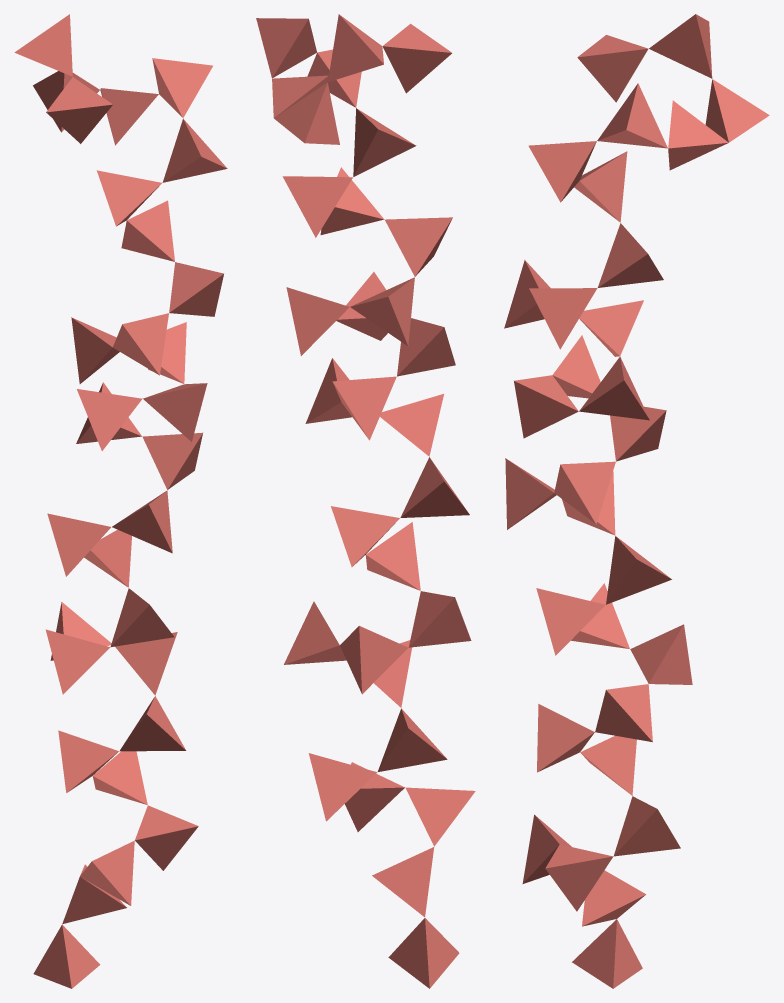
File: customMassing_GLP-1_240712.fbx
3 views of the same model, side by side, from view 1: azimuth 30°, elevation 25°; view 2: azimuth 150°, elevation 25°; view 3: azimuth 270°, elevation 25° (orthographic). The views are drawn at different scales.
Parts seen in each view (by area): view 1: GLP-1; view 2: GLP-1; view 3: GLP-1.
Part boxes in pixels (x1,y1,x2,y2): GLP-1: (14,14,227,988); GLP-1: (256,14,475,988); GLP-1: (504,14,769,988).
Size of the model in its own units: 859 by 4270 by 1043.
